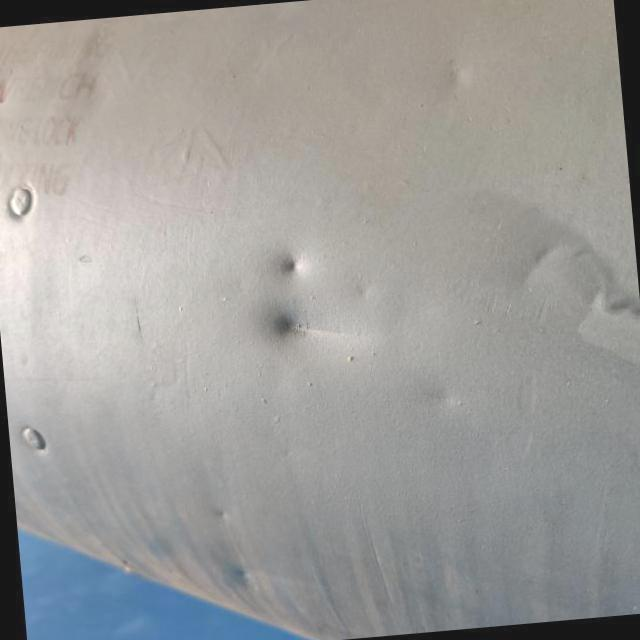dent: (511, 207, 639, 355), (256, 286, 354, 358), (255, 232, 322, 314), (431, 47, 491, 109), (216, 537, 266, 609), (404, 376, 466, 419)
